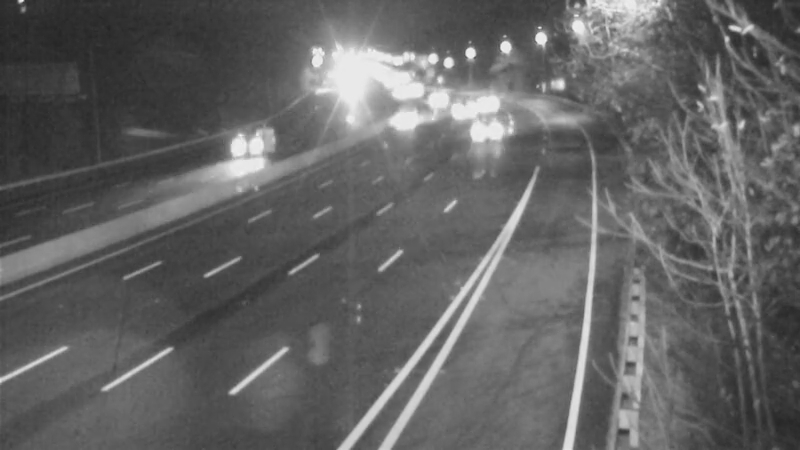vehicle: (375, 68, 425, 118), (412, 71, 462, 121), (462, 74, 512, 124), (441, 86, 491, 136), (381, 93, 431, 143), (463, 108, 513, 158), (222, 124, 272, 174)
